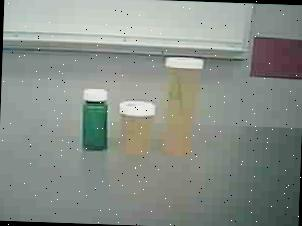Bottle A: (158, 52, 212, 163)
Bottle B: (116, 97, 156, 156)
Bottle C: (76, 82, 114, 154)
